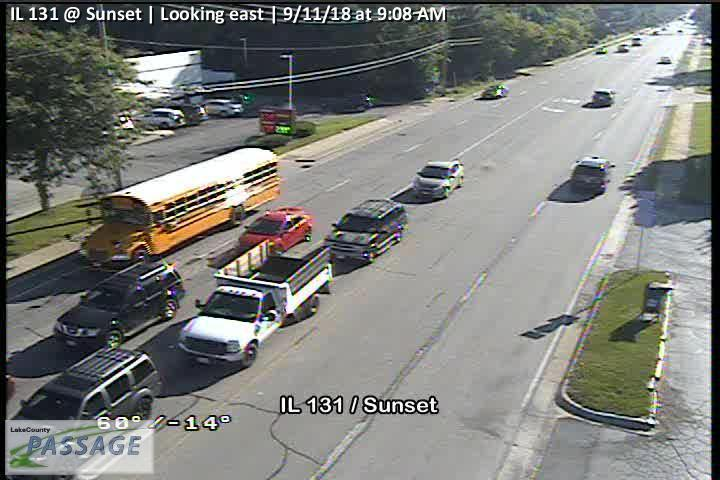Bus: (77, 147, 281, 274)
SUV: (3, 346, 164, 480), (51, 257, 186, 349)
Sedan: (318, 197, 410, 262), (239, 205, 317, 258), (413, 159, 465, 199), (570, 153, 612, 193), (125, 105, 189, 129), (199, 98, 245, 117), (592, 86, 617, 108), (479, 83, 510, 100)
Truck: (181, 239, 335, 370)
